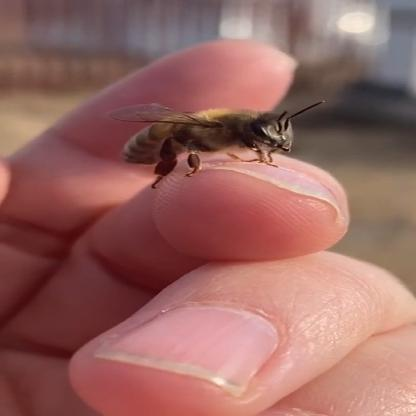bee: (86, 86, 335, 195)
